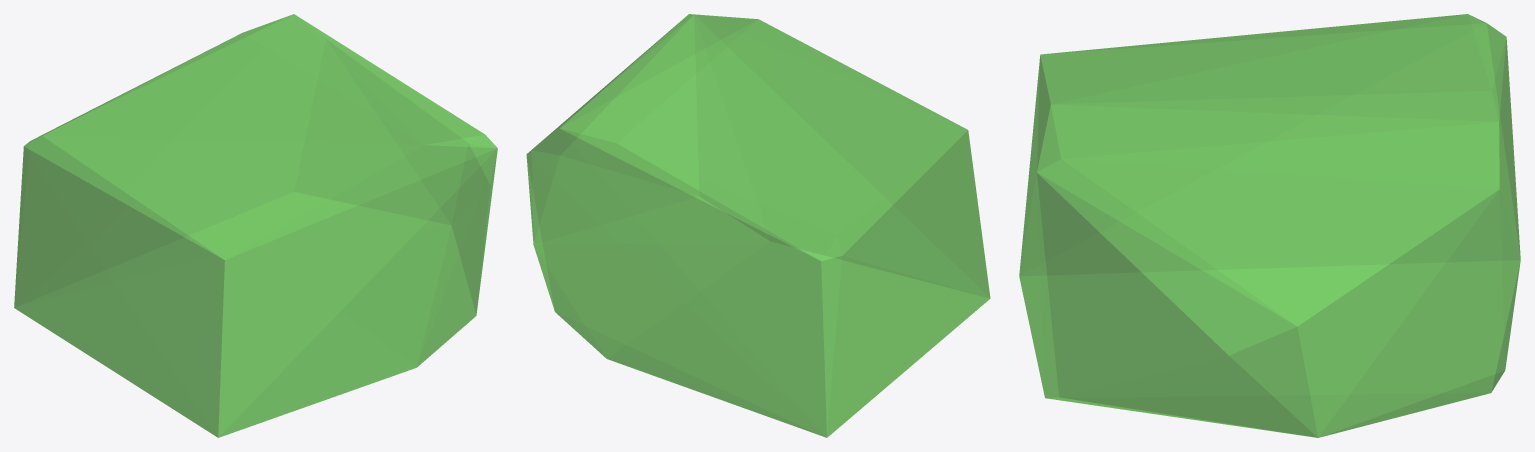
3 renders of one model, left to right at view 1: azimuth 30°, elevation 25°; view 2: azimuth 150°, elevation 25°; view 3: azimuth 270°, elevation 25°, orthographic. The views are drawn at different scales.
Visible parts, largest first — view 1: Shape_IndexedFaceSet.014_Shape_IndexedFaceSet.10839; view 2: Shape_IndexedFaceSet.014_Shape_IndexedFaceSet.10839; view 3: Shape_IndexedFaceSet.014_Shape_IndexedFaceSet.10839.
Part boxes in pixels (x1,y1,x2,y2): Shape_IndexedFaceSet.014_Shape_IndexedFaceSet.10839: (14, 14, 497, 437); Shape_IndexedFaceSet.014_Shape_IndexedFaceSet.10839: (526, 14, 990, 437); Shape_IndexedFaceSet.014_Shape_IndexedFaceSet.10839: (1019, 14, 1520, 437).
Size of the model in its own units: 0.3022 by 0.1805 by 0.2547.
